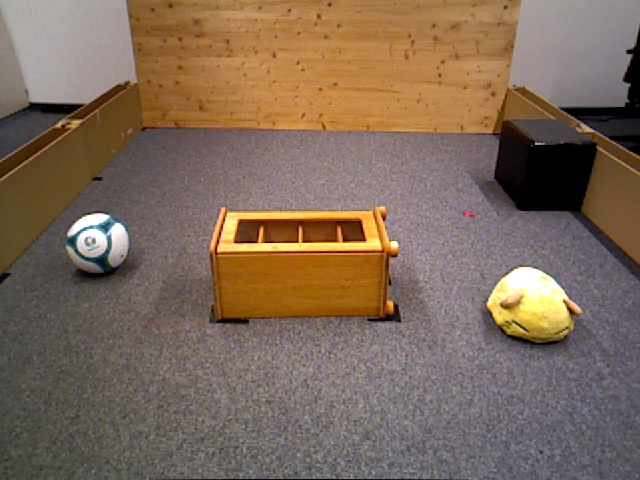grasp: (486, 265, 584, 346)
kick: (65, 212, 131, 276)
push: (494, 119, 597, 212)
